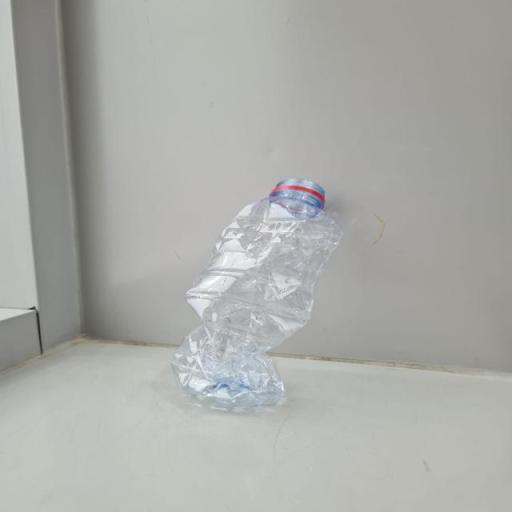plastic: (169, 176, 346, 416)
